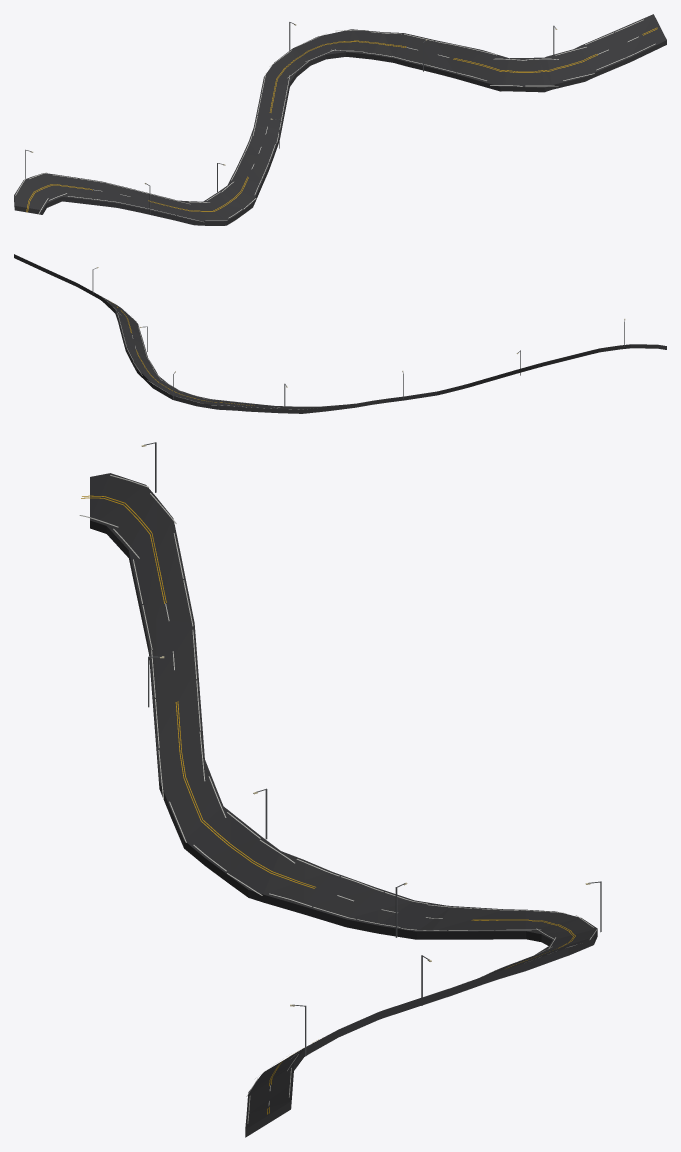
3 renders of one model, top to bottom at view 1: azimuth 30°, elevation 25°; view 2: azimuth 150°, elevation 25°; view 3: azimuth 270°, elevation 25°, orthographic. The views are drawn at different scales.
Bounding box in the file's own units: 188 × 35.98 × 70.69.
